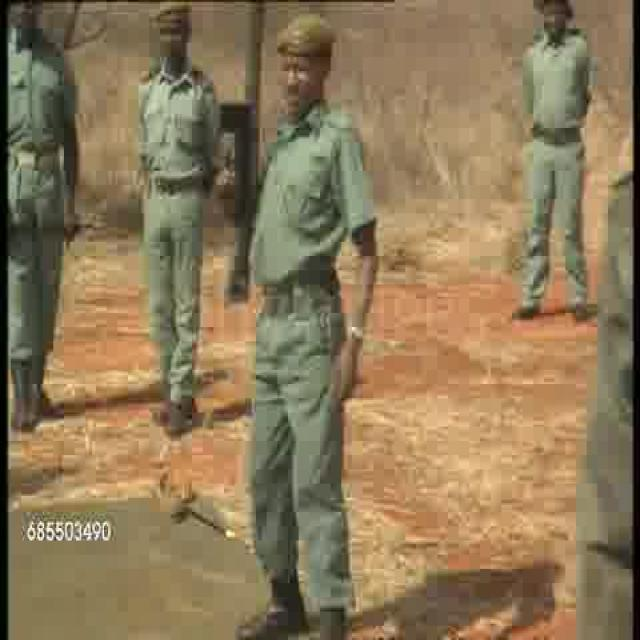poacher: (254, 2, 386, 624), (128, 2, 222, 460), (1, 2, 87, 440), (514, 1, 624, 342)
weapon: (220, 2, 262, 306)
